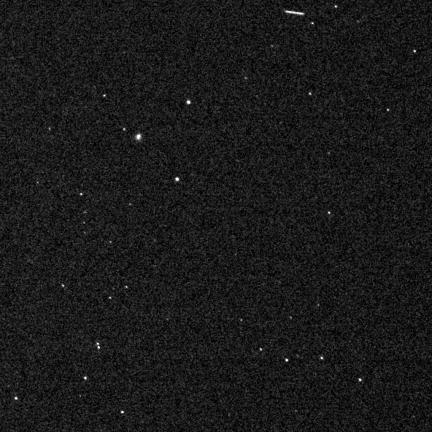blob: (136, 135, 142, 141), (285, 359, 289, 363), (320, 357, 324, 361), (62, 284, 65, 288), (109, 241, 113, 244), (15, 397, 18, 401), (84, 377, 87, 381), (187, 100, 190, 104), (260, 348, 263, 352), (309, 92, 312, 96), (80, 193, 83, 196), (414, 50, 417, 53), (387, 109, 390, 112), (176, 178, 179, 181), (311, 22, 314, 25), (335, 6, 338, 9), (103, 95, 106, 98), (123, 128, 126, 131), (328, 212, 331, 215), (121, 411, 124, 413), (359, 378, 361, 381)
